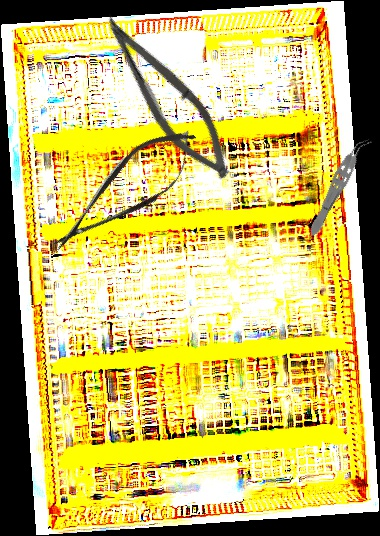Micro Scissor: (82, 4, 250, 191), (38, 114, 212, 269)
Tissue Forceps: (304, 131, 373, 241)
